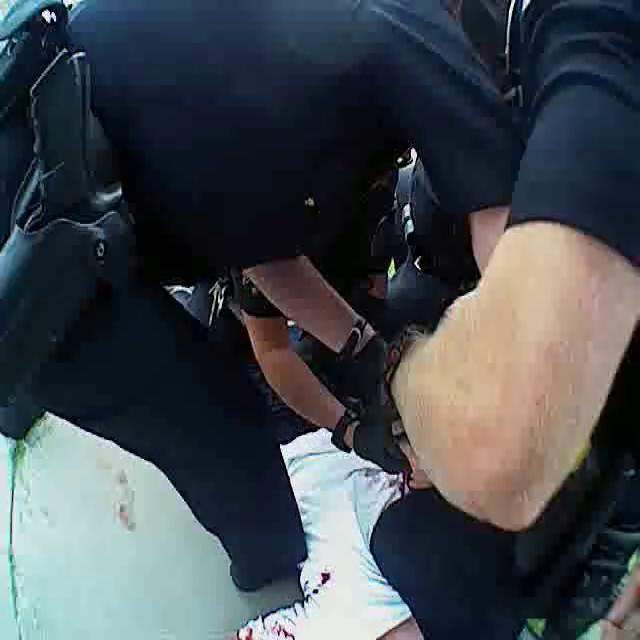gun: (0, 42, 154, 443)
